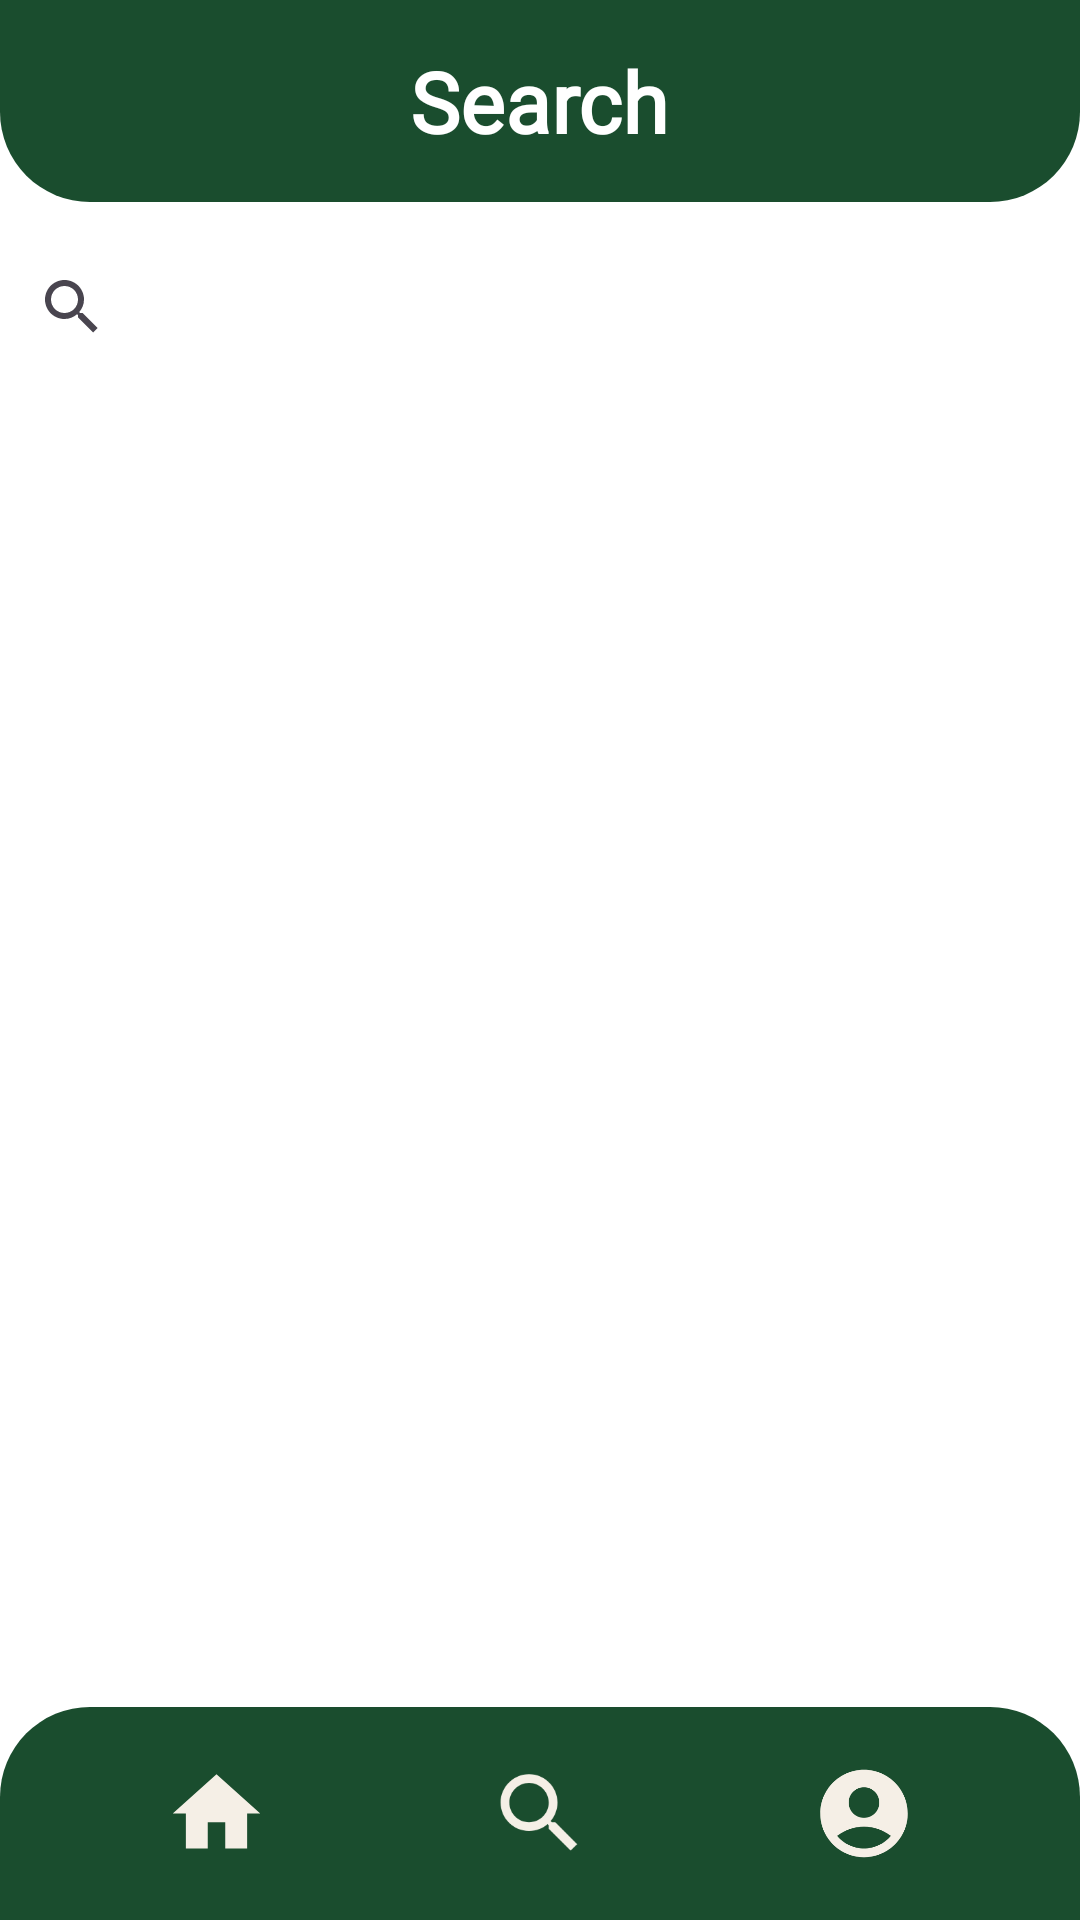

Icons on this 1080x1920 Android screen, each with the point to tap as (x=x, y=y):
account circle: (x=864, y=1813)
home: (x=216, y=1811)
